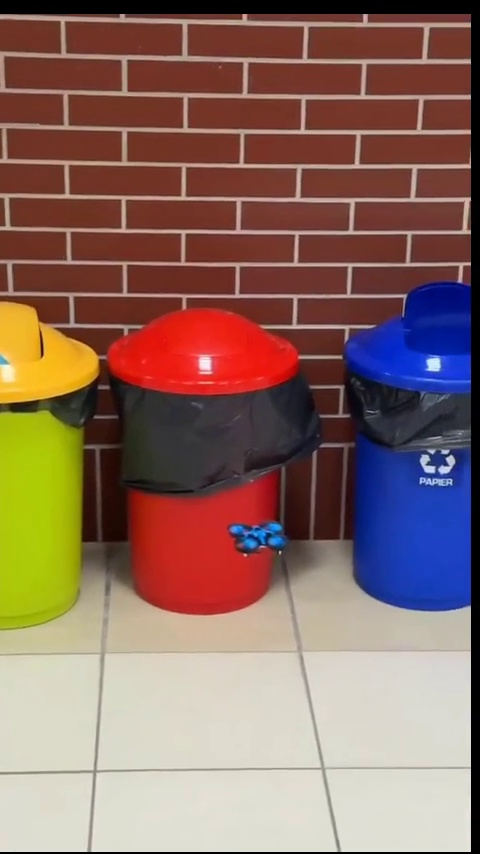drone: (227, 518, 286, 561)
